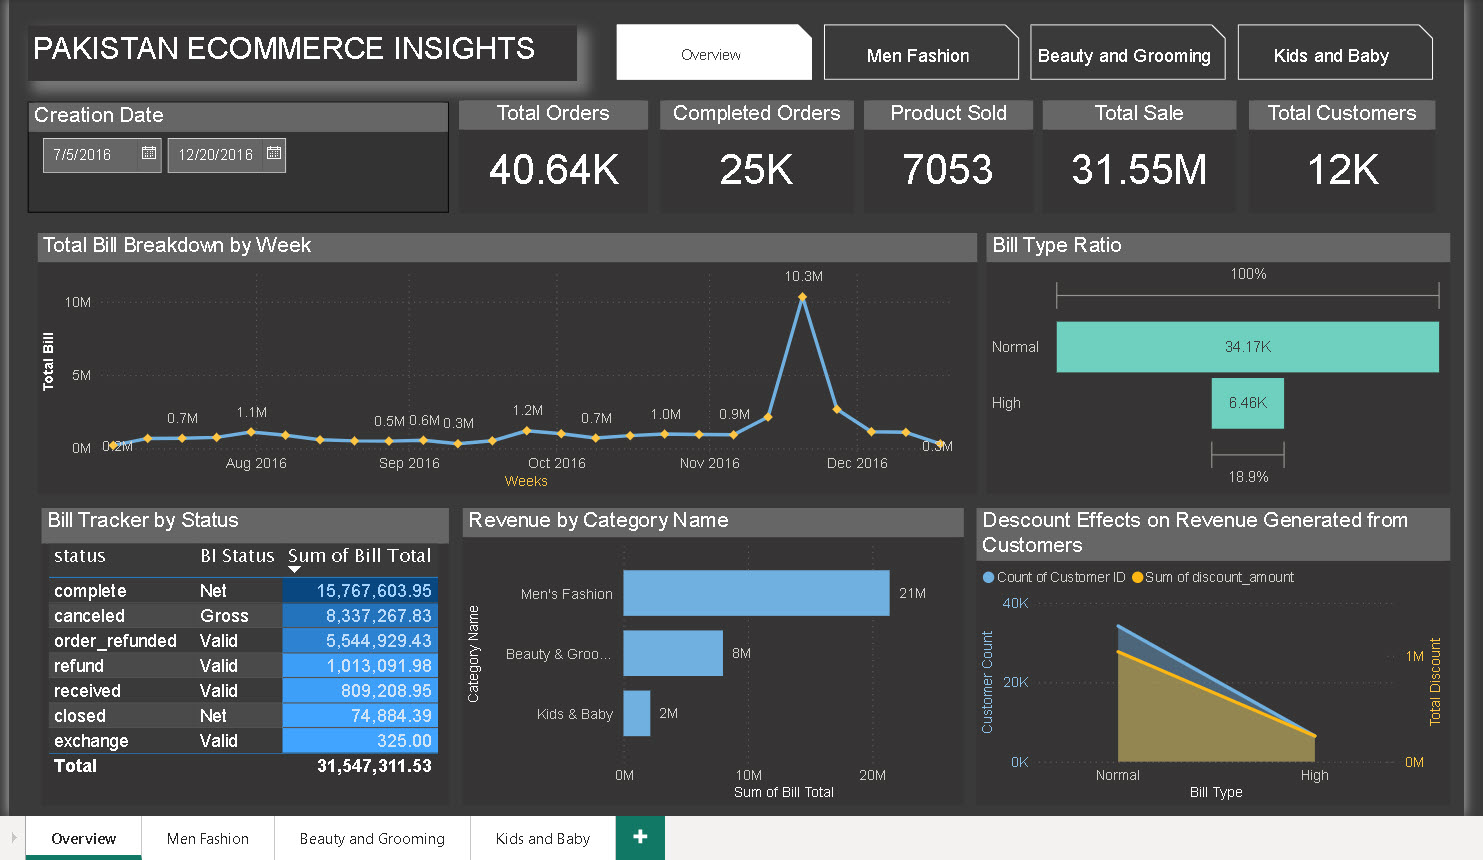

The page's visual inventory and layout, read from the dashboard file:
{"tool":"powerbi","page":{"name":"Overview","canvas":[1280,720],"ordinal":0},"visuals":[{"type":"pageNavigator","box":[534.5,22.9,720.2,49.5],"z":0},{"type":"textbox","box":[16.7,23.8,483.3,48.8],"z":1000},{"type":"card","title":"Completed Orders","fields":{"Values":["Pakistan Largest Ecommerce Dataset.Complete Orders"]},"box":[572.8,90.5,170.2,98.8],"z":2000},{"type":"lineChart","title":"Total Bill Breakdown by Week","fields":{"Y":["Sum(Pakistan Largest Ecommerce Dataset.Bill Total)"],"Category":["Calender.Start of Week"]},"box":[25,207.1,826.2,229.8],"z":3000},{"type":"barChart","title":"Revenue by Category Name","fields":{"Category":["Pakistan Largest Ecommerce Dataset.Category Name"],"Y":["Sum(Pakistan Largest Ecommerce Dataset.Bill Total)"]},"box":[398.8,448.8,440.5,261.9],"z":4000},{"type":"slicer","title":"Creation Date ","fields":{"Values":["Pakistan Largest Ecommerce Dataset.created_at"]},"box":[16.7,91.7,370.2,97.6],"z":5000},{"type":"tableEx","title":"Bill Tracker by Status","fields":{"Values":["Pakistan Largest Ecommerce Dataset.status","Pakistan Largest Ecommerce Dataset.BI Status","Sum(Pakistan Largest Ecommerce Dataset.Bill Total)"]},"box":[28.6,448.8,358.3,261.9],"z":6000},{"type":"areaChart","title":"Descount Effects on Revenue Generated from Customers","fields":{"Category":["Pakistan Largest Ecommerce Dataset.Bill Type"],"Y":["CountNonNull(Pakistan Largest Ecommerce Dataset.Customer ID)"],"Y2":["Sum(Pakistan Largest Ecommerce Dataset.discount_amount)"]},"box":[851.2,448.8,416.7,261.9],"z":7000},{"type":"funnel","title":"Bill Type Ratio","fields":{"Y":["CountNonNull(Pakistan Largest Ecommerce Dataset.Bill Type)"],"Category":["Pakistan Largest Ecommerce Dataset.Bill Type"]},"box":[859.5,207.1,408.3,229.8],"z":8000},{"type":"card","title":"Total Orders","fields":{"Values":["CountNonNull(Pakistan Largest Ecommerce Dataset.qty_ordered)"]},"box":[395.4,90.5,166.7,98.8],"z":9000},{"type":"card","title":"Total Customers","fields":{"Values":["Pakistan Largest Ecommerce Dataset.Total Customer"]},"box":[1090.5,90.5,164.3,98.8],"z":10000},{"type":"card","title":"Product Sold","fields":{"Values":["Pakistan Largest Ecommerce Dataset.Proucts Sold"]},"box":[752.6,90.5,148.8,98.8],"z":11000},{"type":"card","title":"Total Sale","fields":{"Values":["Pakistan Largest Ecommerce Dataset.Total Sales"]},"box":[909.5,90.5,170.2,98.8],"z":12000}]}

Visuals, with their boxes on the page's 1280x720 design canvas (x1, y1, x2, y2). These are canvas units, not pixel positions in the 1483x860 screenshot, which may show the page scaled, cropped or inside an application window:
pageNavigator: 534 23 1255 72
textbox: 17 24 500 73
"Completed Orders" card: 573 90 743 189
"Total Bill Breakdown by Week" lineChart: 25 207 851 437
"Revenue by Category Name" barChart: 399 449 839 711
"Creation Date " slicer: 17 92 387 189
"Bill Tracker by Status" tableEx: 29 449 387 711
"Descount Effects on Revenue Generated from Customers" areaChart: 851 449 1268 711
"Bill Type Ratio" funnel: 860 207 1268 437
"Total Orders" card: 395 90 562 189
"Total Customers" card: 1090 90 1255 189
"Product Sold" card: 753 90 901 189
"Total Sale" card: 910 90 1080 189
